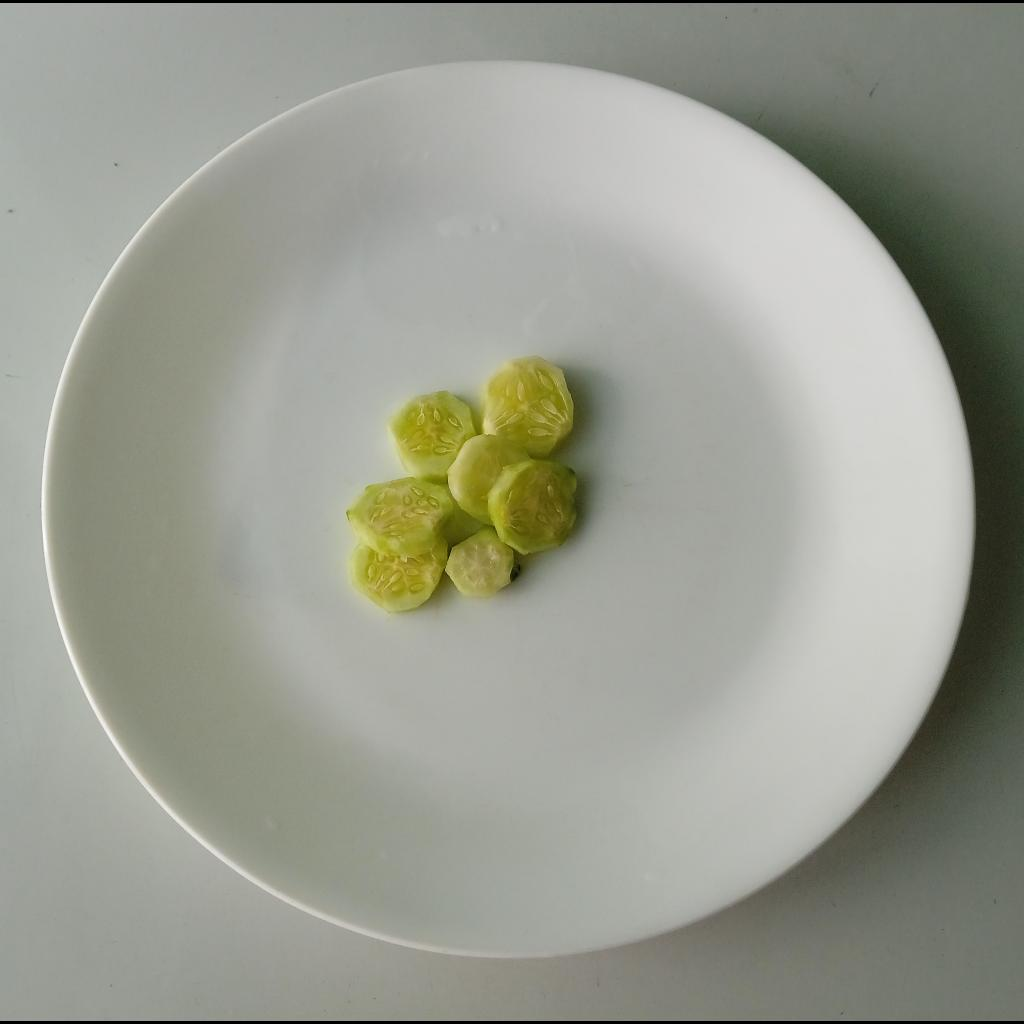cucumber: (341, 355, 582, 617)
